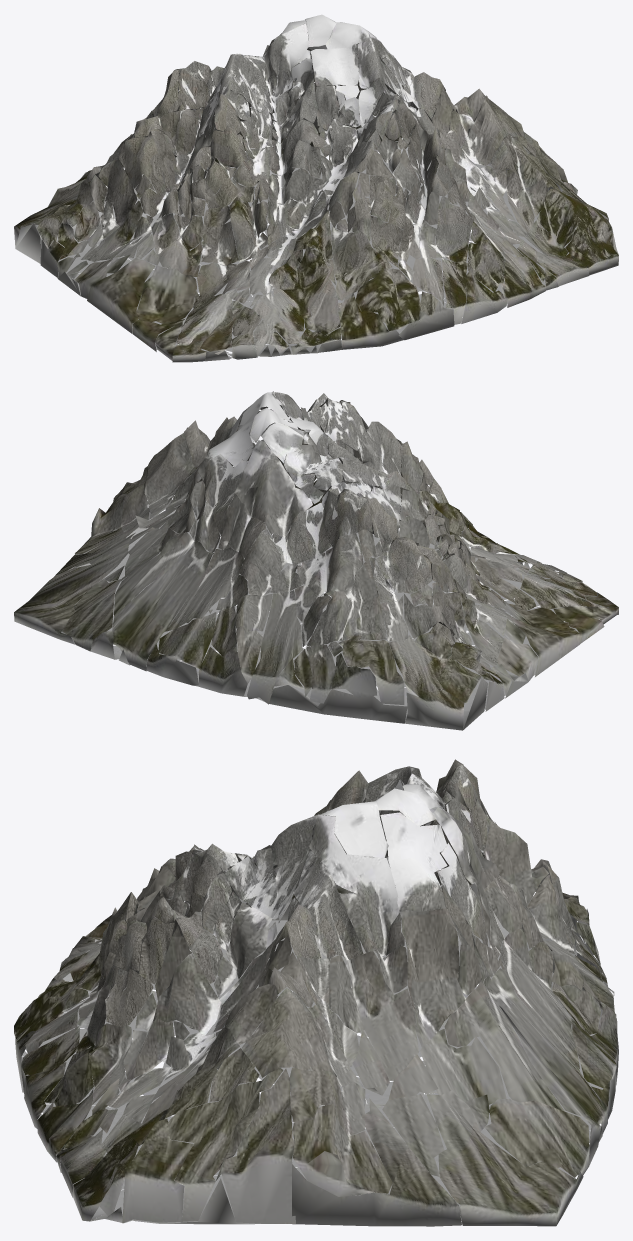
Rendered from mountain.glb.
3 renders of one model, top to bottom at view 1: azimuth 30°, elevation 25°; view 2: azimuth 150°, elevation 25°; view 3: azimuth 270°, elevation 25°, orthographic. The views are drawn at different scales.
Parts seen in each view (by area): view 1: Mesh_0; view 2: Mesh_0; view 3: Mesh_0.
Part boxes in pixels (x1,y1,x2,y2): Mesh_0: [14, 14, 618, 362]; Mesh_0: [14, 391, 618, 730]; Mesh_0: [14, 759, 618, 1226].
Bounding box in the file's own units: 21.39 × 10 × 17.87.
1 material, 1 textured.
